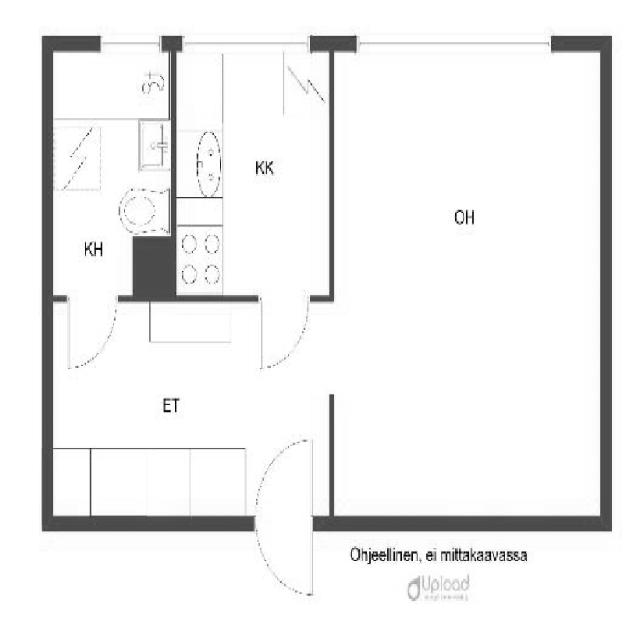door: (249, 436, 320, 603), (243, 286, 322, 366), (55, 290, 124, 372)
window: (172, 28, 323, 64), (88, 25, 168, 58)
zone: (329, 34, 608, 521), (46, 300, 330, 530), (170, 41, 333, 299), (46, 41, 170, 296)
